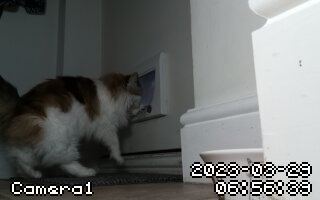clara: (6, 63, 155, 191)
